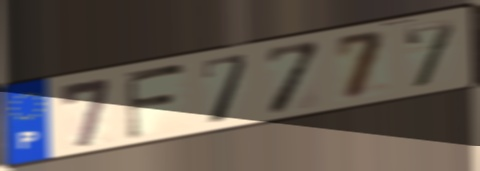7: (332, 27, 392, 104), (265, 36, 322, 117), (58, 75, 115, 150), (403, 16, 459, 91), (201, 51, 249, 126)
F: (123, 61, 190, 143)
